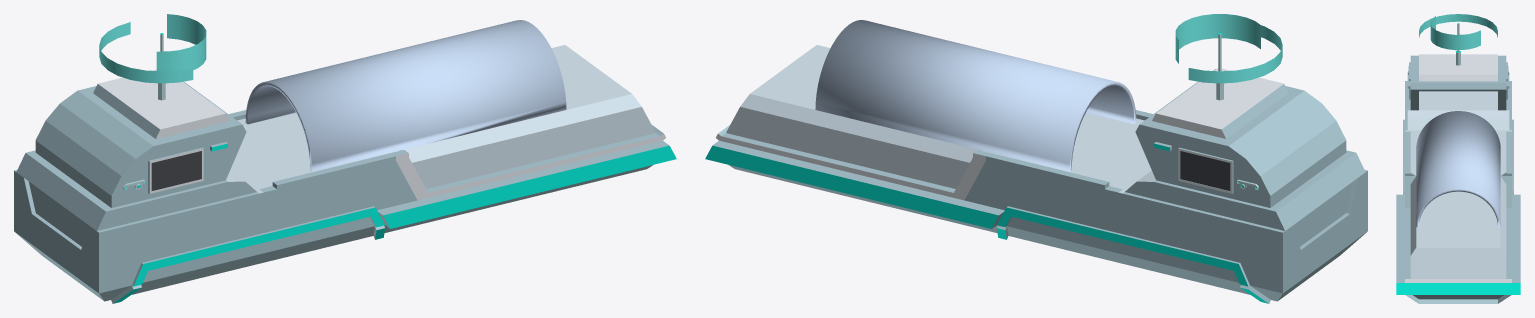
Rendered from floating capsule.fbx.
The picture shows the model from 3 angles, left to right: view 1: azimuth 30°, elevation 25°; view 2: azimuth 150°, elevation 25°; view 3: azimuth 270°, elevation 25°; orthographic projection. The views are drawn at different scales.
Visible parts, largest first — view 1: floating capsule, hologram2, hologram1; view 2: floating capsule, hologram2, hologram1; view 3: floating capsule, hologram2, hologram1.
Part boxes in pixels (x1=…): floating capsule: x1=14, y1=20, x2=676, y2=303; hologram2: x1=156, y1=14, x2=206, y2=71; hologram1: x1=99, y1=22, x2=193, y2=83; floating capsule: x1=705, y1=20, x2=1367, y2=303; hologram2: x1=1175, y1=14, x2=1260, y2=63; hologram1: x1=1188, y1=25, x2=1282, y2=83; floating capsule: x1=1396, y1=23, x2=1520, y2=303; hologram2: x1=1430, y1=16, x2=1480, y2=50; hologram1: x1=1419, y1=14, x2=1497, y2=37.
Size of the model in its own units: 148 by 56.03 by 44.
